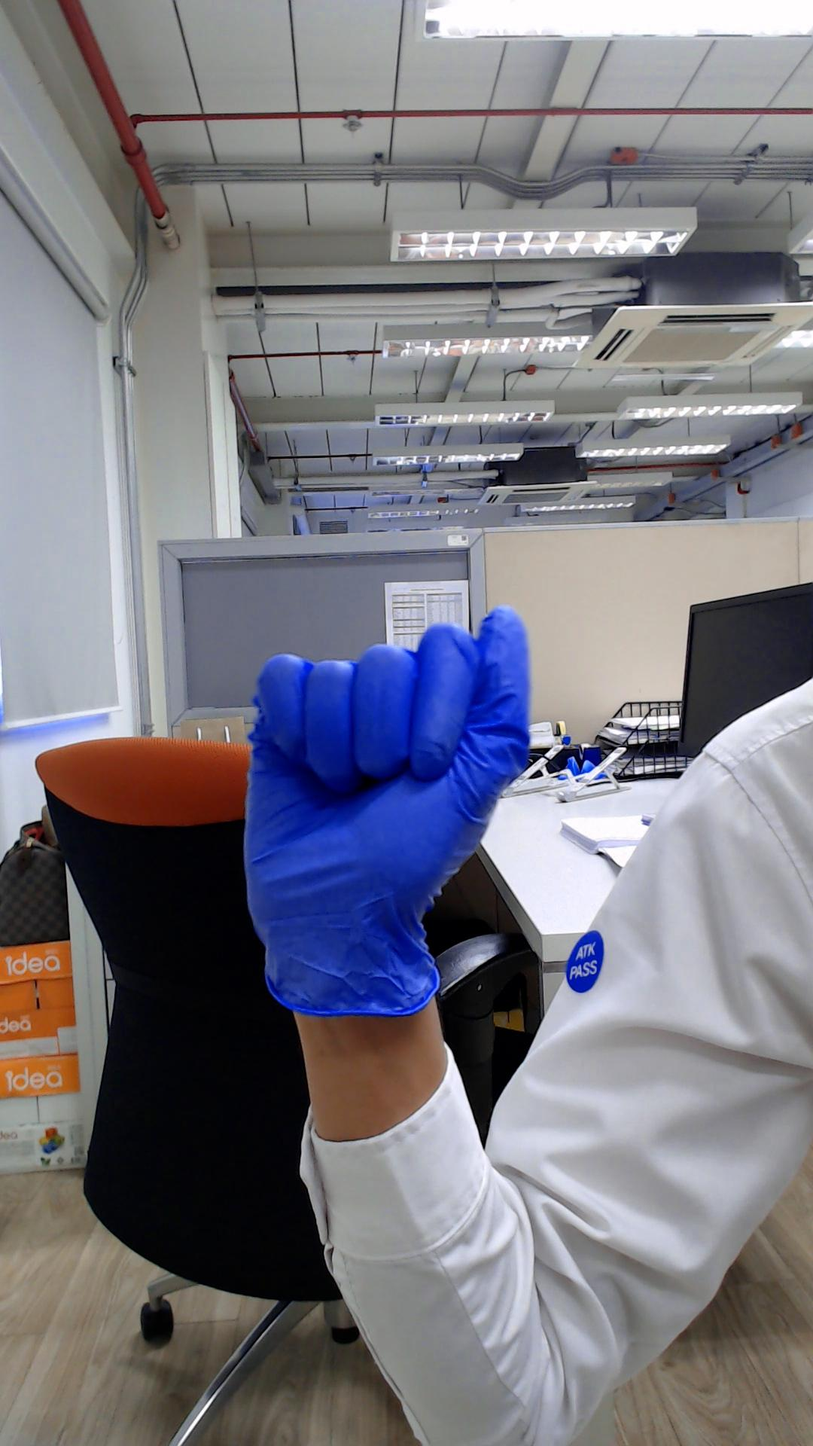gloves: (207, 550, 562, 898)
